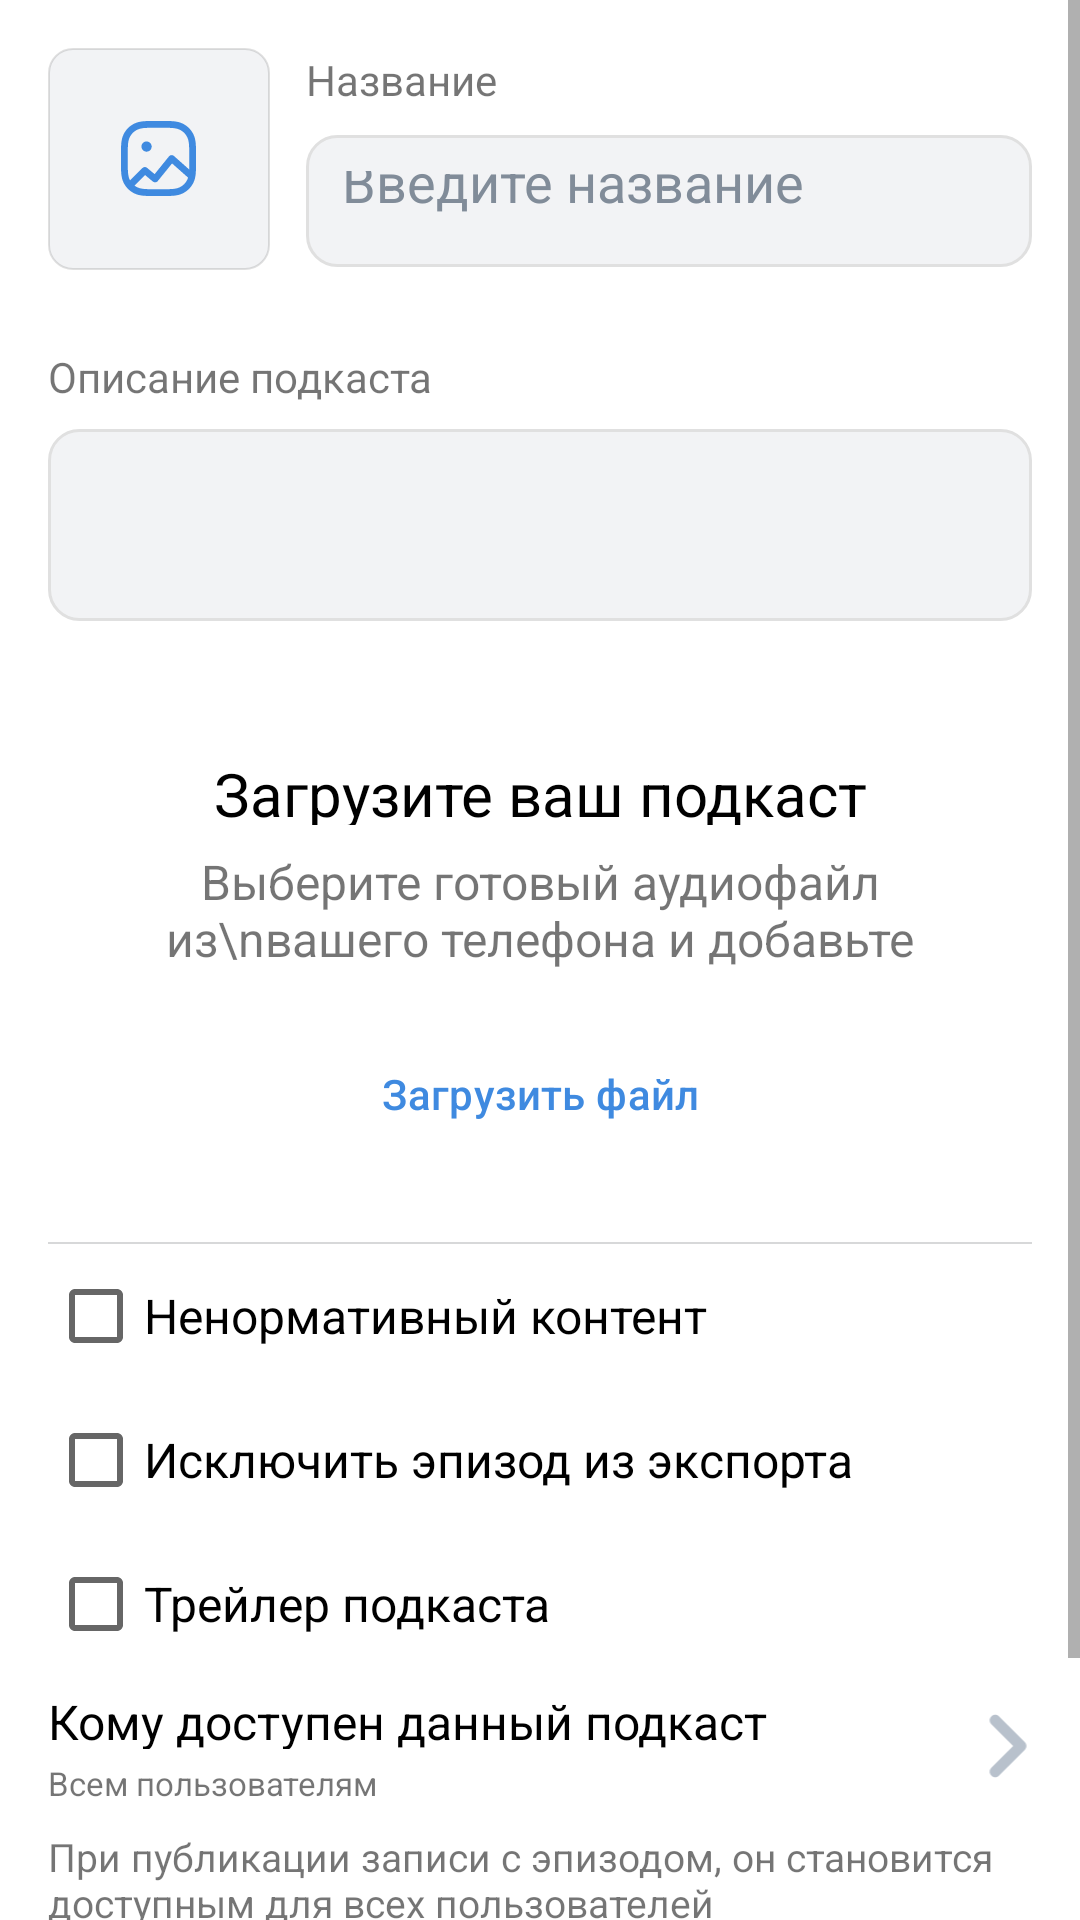

Icon click points for this 1080 x 1920 phone screenshot, format [x,y]:
chevron right: [1008,1746]
